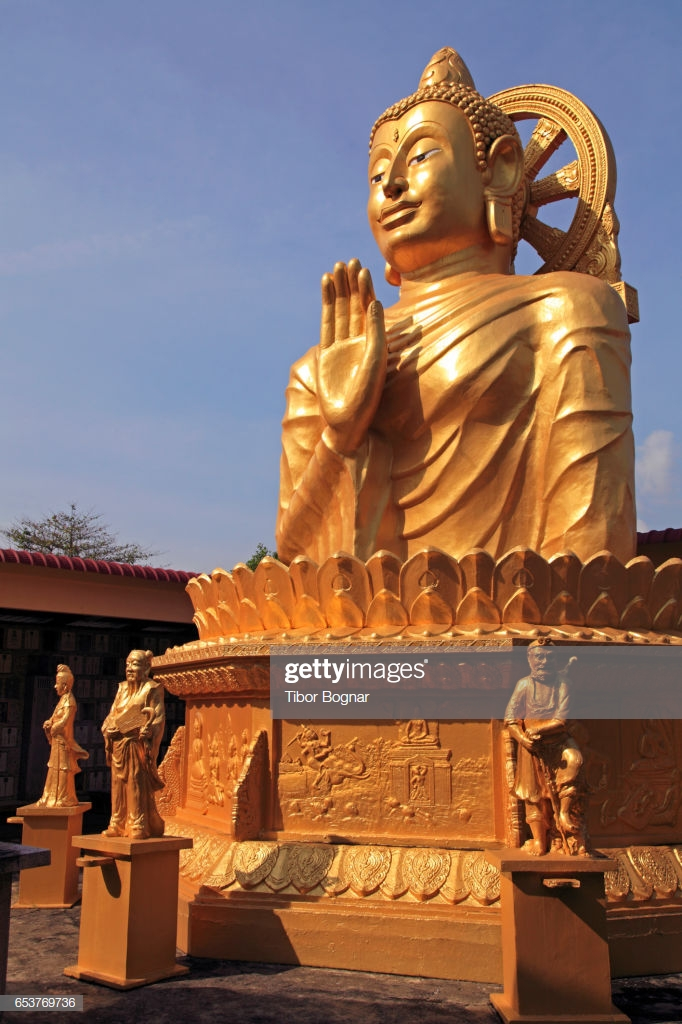Buddhist Temple: (237, 46, 637, 638)
